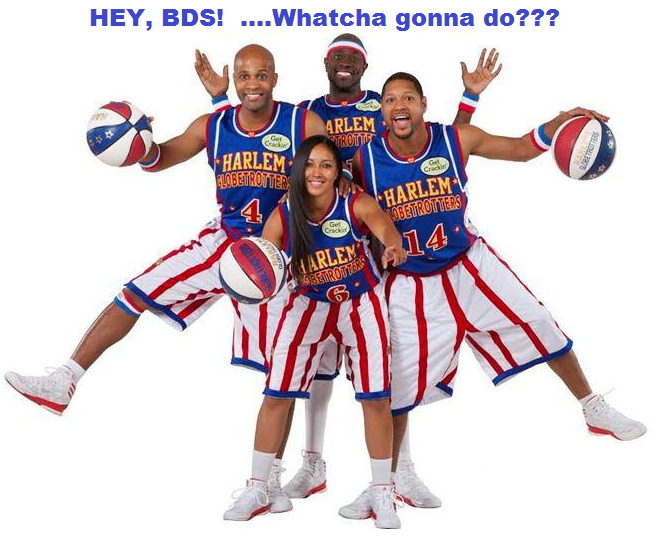ball: (84, 101, 155, 166), (219, 236, 285, 304), (551, 115, 618, 181)
player: (19, 43, 316, 412), (357, 74, 585, 514), (255, 138, 399, 527)
